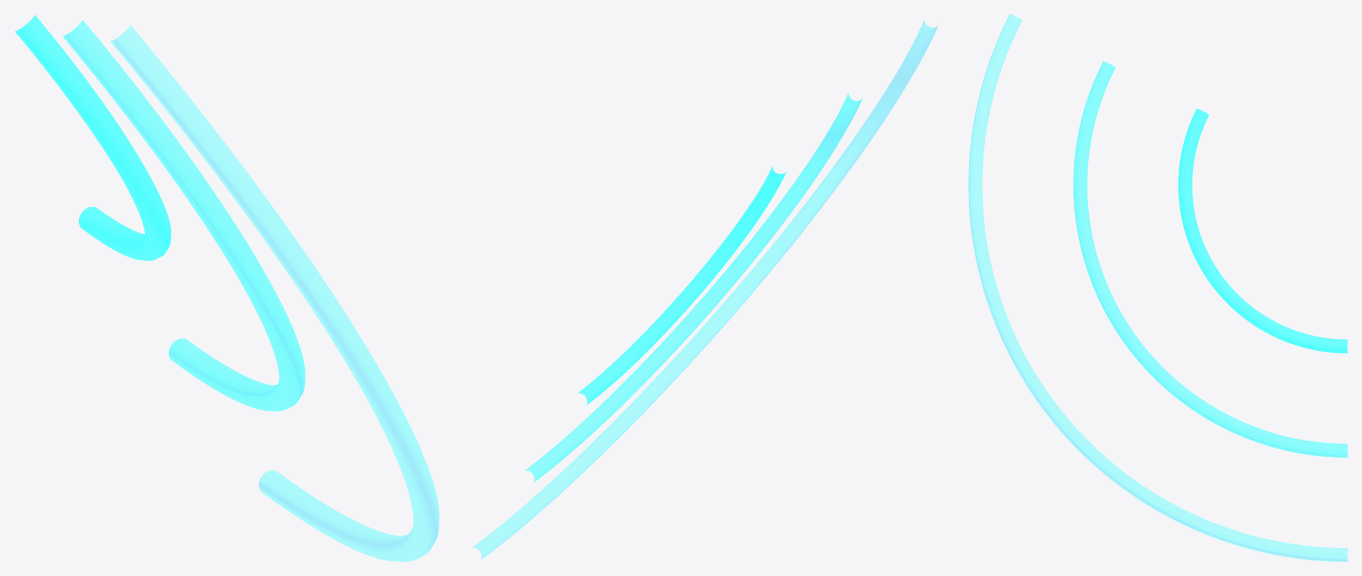
The model's file is sound_rings.glb.
The picture shows the model from 3 angles, left to right: view 1: azimuth 30°, elevation 25°; view 2: azimuth 150°, elevation 25°; view 3: azimuth 270°, elevation 25°; orthographic projection. The views are drawn at different scales.
Visible parts, largest first — view 1: ring_2, ring_1, ring_0; view 2: ring_2, ring_1, ring_0; view 3: ring_2, ring_1, ring_0.
Part boxes in pixels (left/top/right/bottom): ring_2: left=111, top=25, right=439, bottom=561; ring_1: left=63, top=20, right=305, bottom=411; ring_0: left=15, top=14, right=171, bottom=260; ring_2: left=472, top=20, right=937, bottom=559; ring_1: left=525, top=93, right=862, bottom=481; ring_0: left=578, top=166, right=786, bottom=404; ring_2: left=968, top=14, right=1347, bottom=561; ring_1: left=1073, top=61, right=1347, bottom=457; ring_0: left=1178, top=108, right=1347, bottom=353.
Size of the model in its own units: 1.18 by 1.89 by 1.52.
